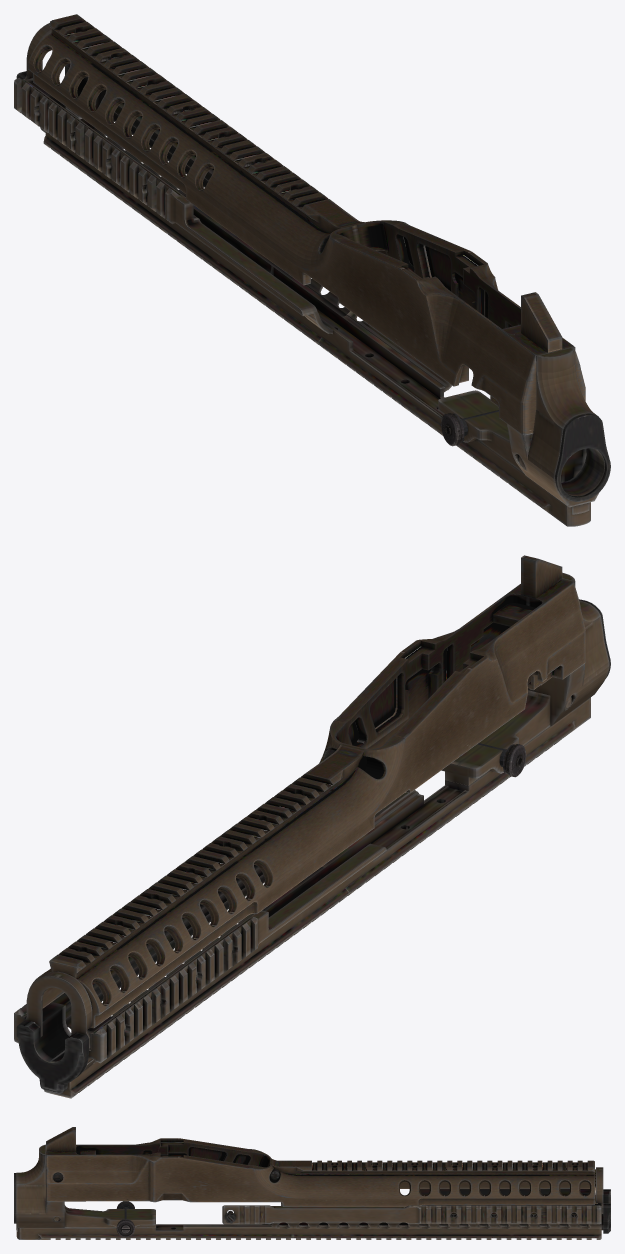
3 views of the same model, one above another, from view 1: azimuth 30°, elevation 25°; view 2: azimuth 150°, elevation 25°; view 3: azimuth 270°, elevation 25° (orthographic). The views are drawn at different scales.
Parts seen in each view (by area): view 1: TW_5ab372a310e891001717f0d8_PZ_Import; view 2: TW_5ab372a310e891001717f0d8_PZ_Import; view 3: TW_5ab372a310e891001717f0d8_PZ_Import.
Boxes of the visible parts, x1,y1,x2,y2 form: TW_5ab372a310e891001717f0d8_PZ_Import: [14, 14, 610, 526]; TW_5ab372a310e891001717f0d8_PZ_Import: [14, 555, 610, 1098]; TW_5ab372a310e891001717f0d8_PZ_Import: [14, 1127, 610, 1239].
Bounding box in the file's own units: 0.0367 × 0.3528 × 0.0702.
1 material, 1 textured.
